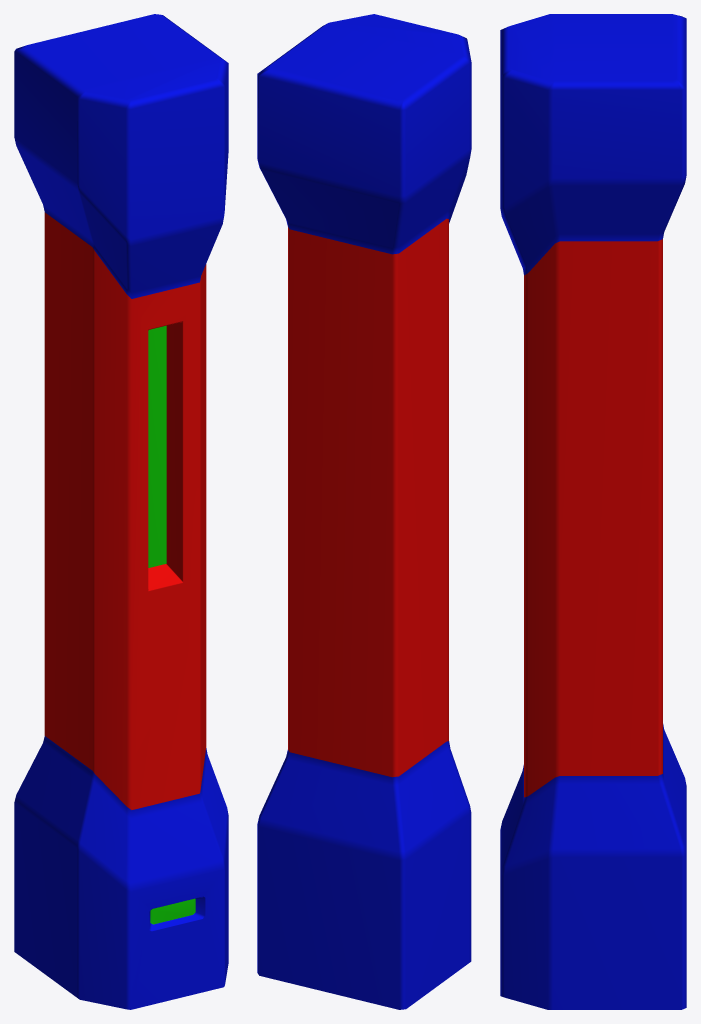
File: Divider.fbx
The picture shows the model from 3 angles, left to right: view 1: azimuth 30°, elevation 25°; view 2: azimuth 150°, elevation 25°; view 3: azimuth 270°, elevation 25°; orthographic projection. The views are drawn at different scales.
Parts seen in each view (by area): view 1: Divider; view 2: Divider; view 3: Divider.
Part boxes in pixels (x1,y1,x2,y2): Divider: (14, 14, 228, 1009); Divider: (257, 14, 471, 1009); Divider: (500, 14, 686, 1009).
Bounding box in the file's own units: 89.63 × 521 × 94.97.
